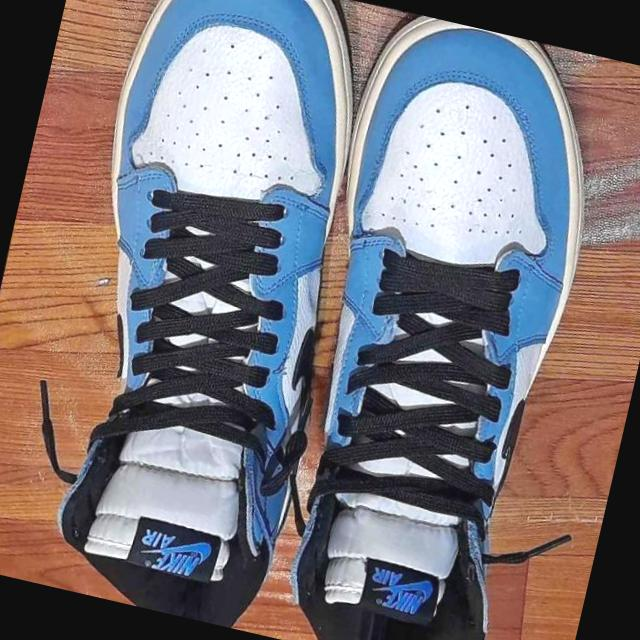nike_fake_jordan: (1, 0, 405, 635), (235, 5, 630, 640)
